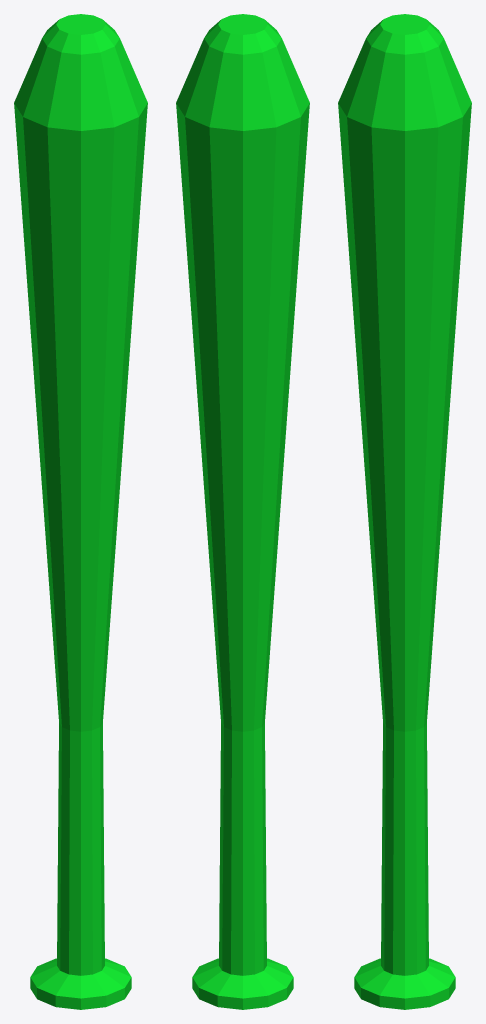
File: Bat.fbx
3 views of the same model, side by side, from view 1: azimuth 30°, elevation 25°; view 2: azimuth 210°, elevation 25°; view 3: azimuth 330°, elevation 25° (orthographic).
Visible parts, largest first — view 1: Cylinder; view 2: Cylinder; view 3: Cylinder.
Part boxes in pixels (<box>): Cylinder: <box>14,14,147,1009</box>; Cylinder: <box>176,14,309,1009</box>; Cylinder: <box>338,14,471,1009</box>.
Size of the model in its own units: 15.7 by 125 by 15.7.
